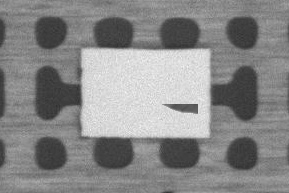DIE_INK: (164, 104, 198, 120)
